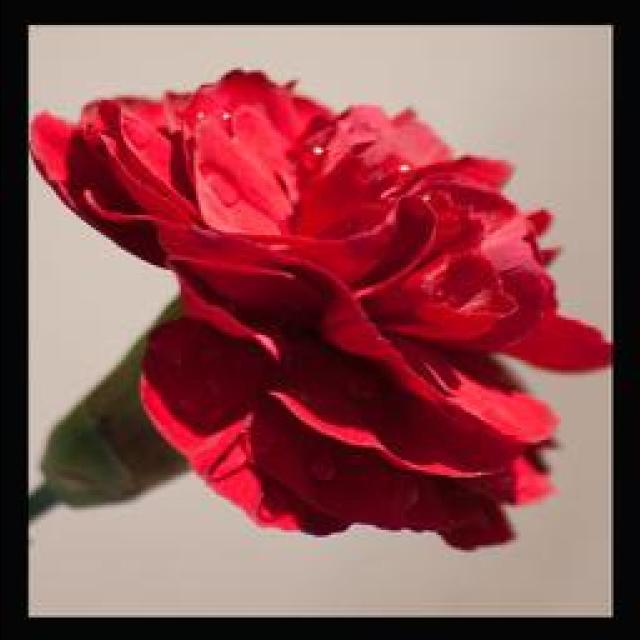carnation: (72, 52, 602, 558)
